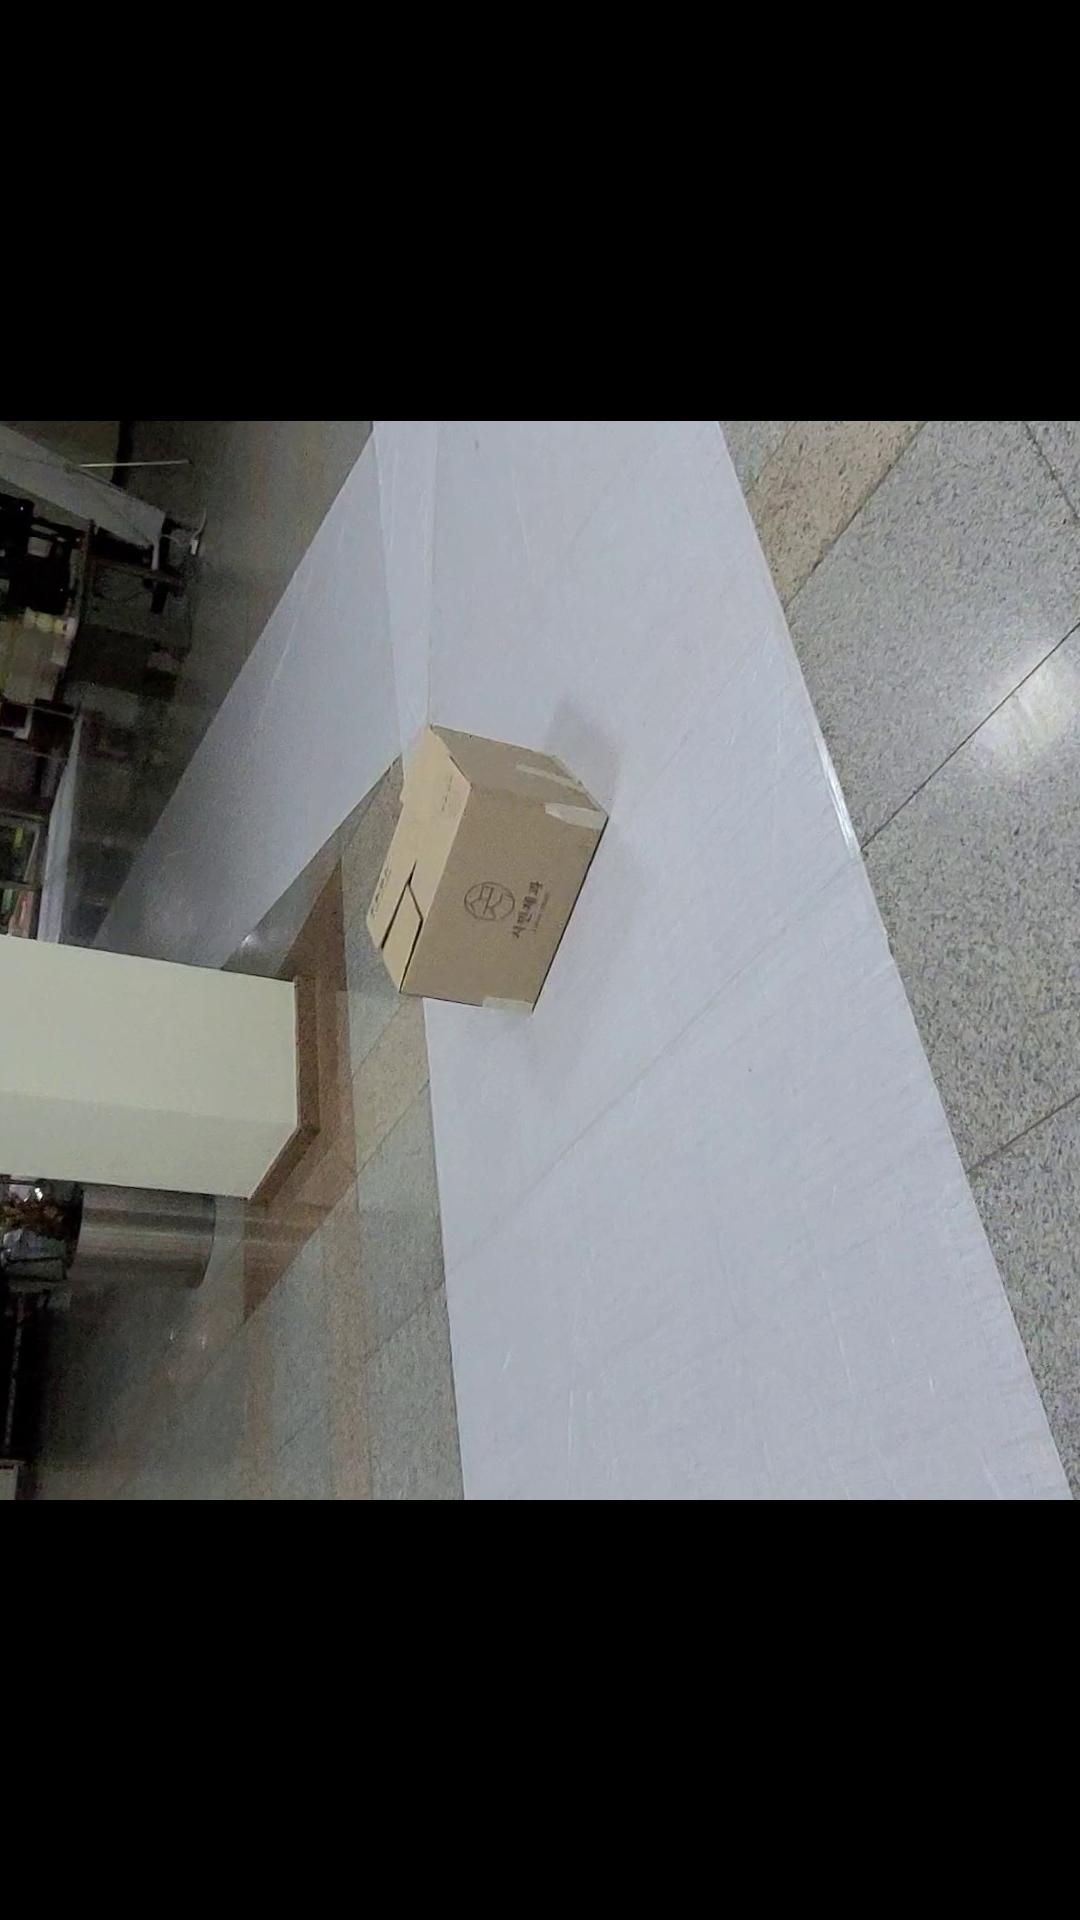Box: (334, 705, 633, 1042)
